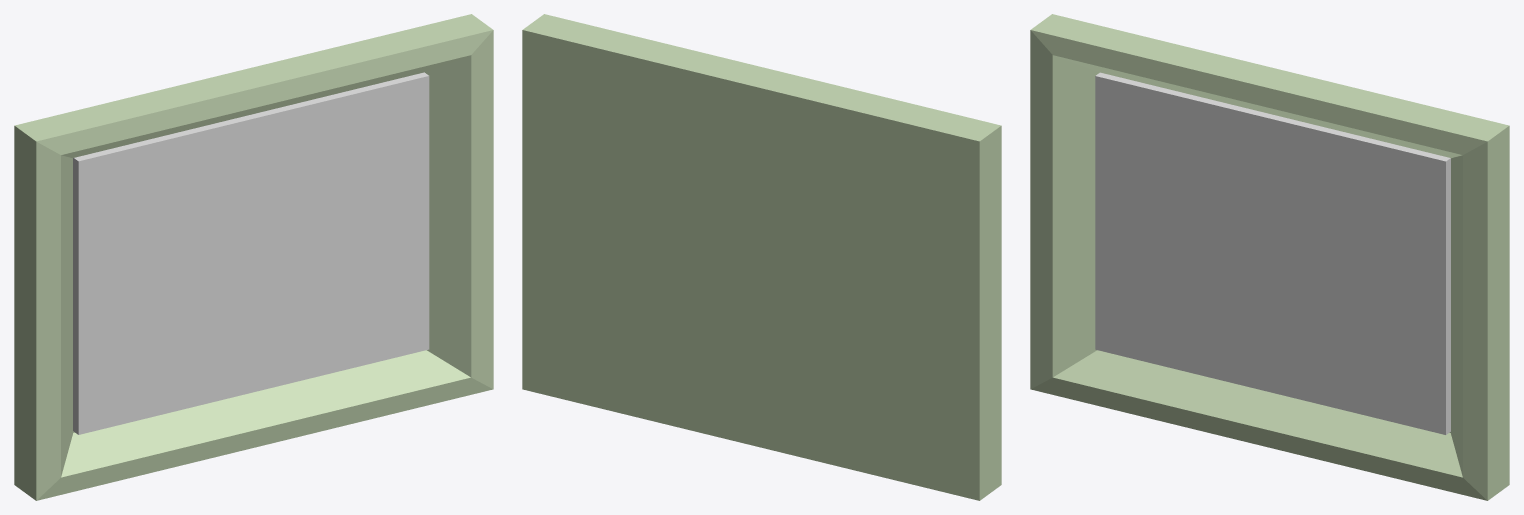
The model's file is FrameSmall.fbx.
3 renders of one model, left to right at view 1: azimuth 30°, elevation 25°; view 2: azimuth 150°, elevation 25°; view 3: azimuth 330°, elevation 25°, orthographic.
Parts seen in each view (by area): view 1: Plane.001, Cube.001; view 2: Cube.001; view 3: Plane.001, Cube.001.
Boxes of the visible parts, bbox=[...] form: Plane.001: bbox=[73, 72, 429, 434]; Cube.001: bbox=[14, 14, 493, 500]; Cube.001: bbox=[522, 14, 1001, 500]; Plane.001: bbox=[1095, 72, 1450, 434]; Cube.001: bbox=[1030, 14, 1509, 500].
Size of the model in its own units: 379 by 285 by 33.04.
